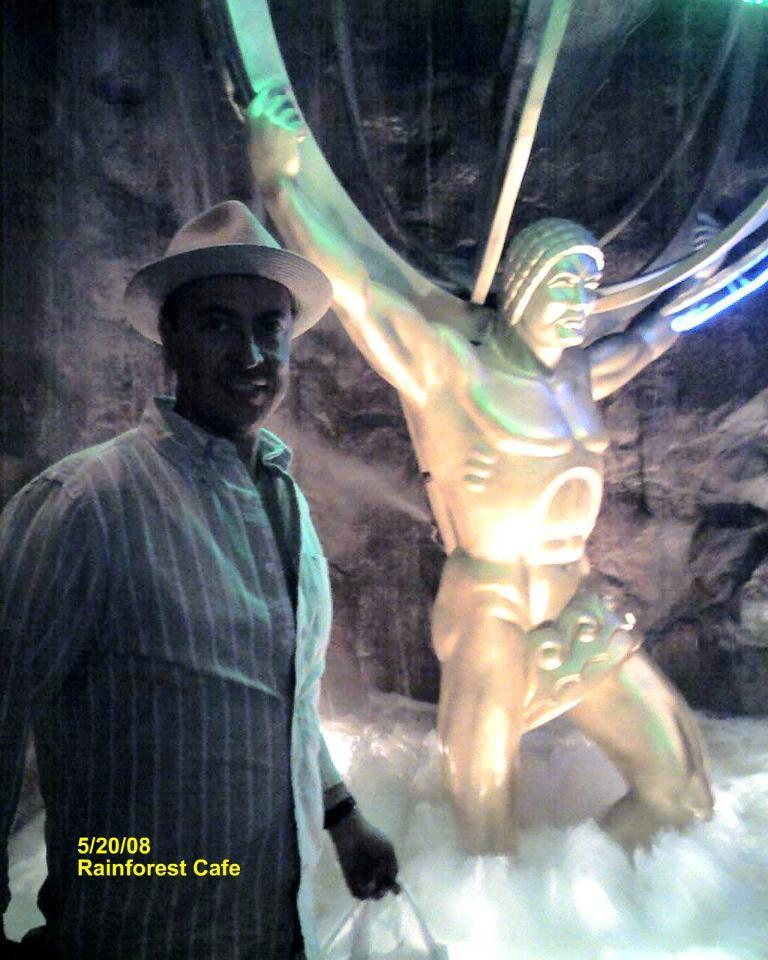Hat: (126, 198, 332, 345)
